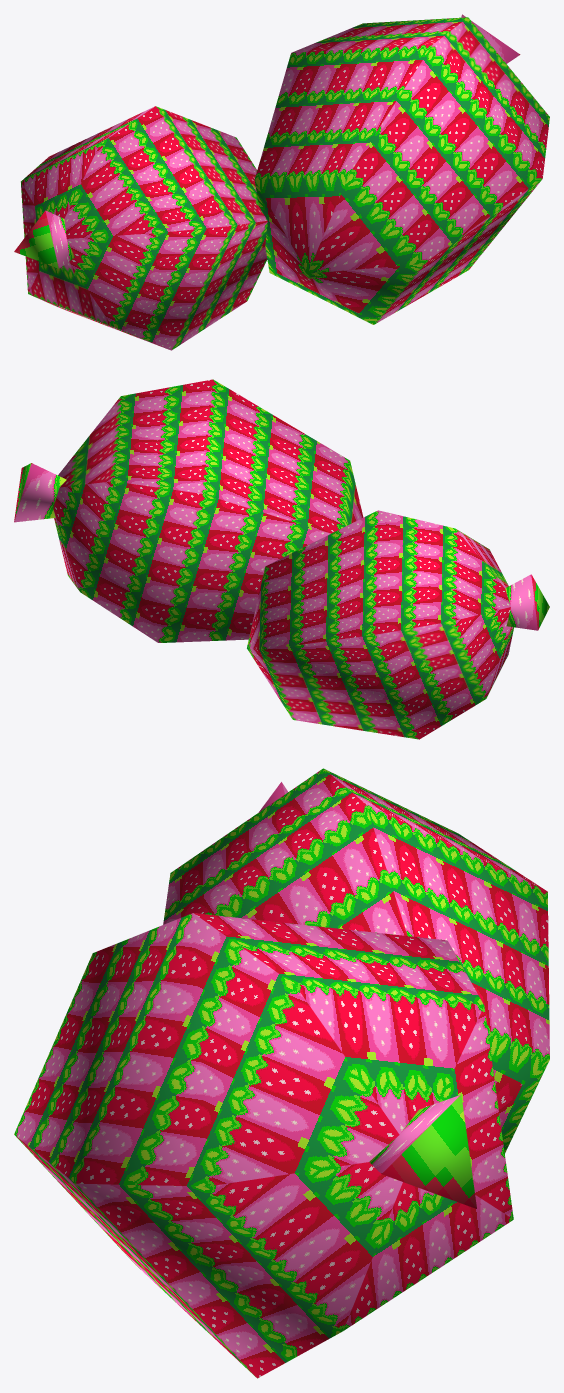
3 renders of one model, top to bottom at view 1: azimuth 30°, elevation 25°; view 2: azimuth 150°, elevation 25°; view 3: azimuth 270°, elevation 25°, orthographic. The views are drawn at different scales.
Visible parts, largest first — view 1: 3703kg_it_ob0; view 2: 3703kg_it_ob0; view 3: 3703kg_it_ob0.
Boxes of the visible parts, x1,y1,x2,y2 form: 3703kg_it_ob0: (14,14,549,350); 3703kg_it_ob0: (14,379,549,739); 3703kg_it_ob0: (14,768,549,1378).
Bounding box in the file's own units: 1.84 × 0.8464 × 0.9775.
Materials: 1 (1 with a texture image).
